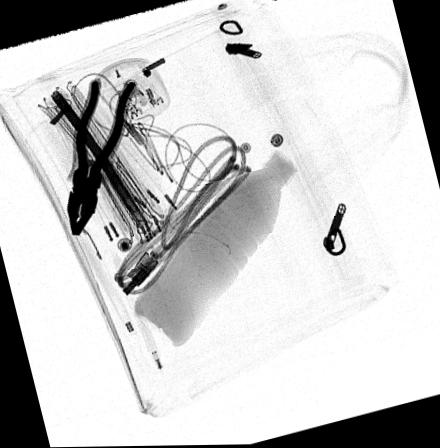Pliers: (64, 76, 134, 237)
